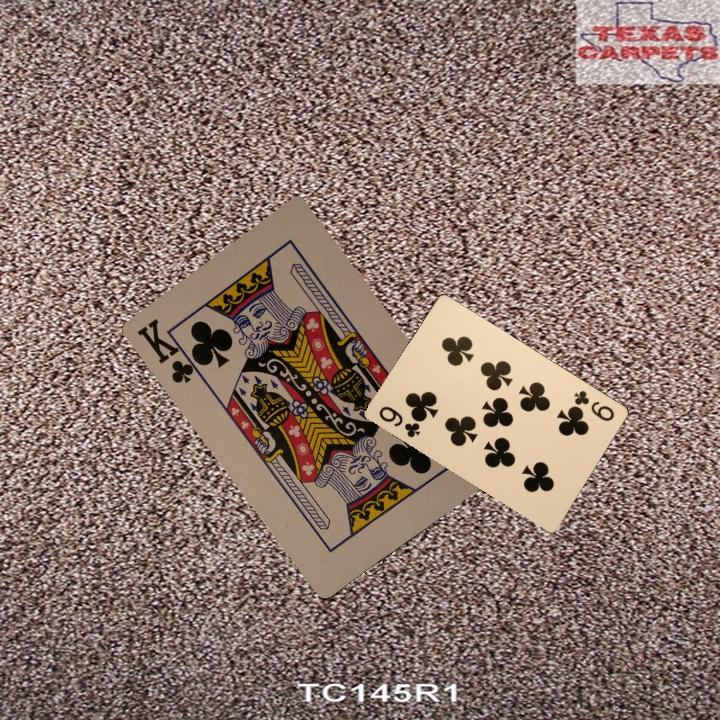9c: (570, 386, 617, 424), (375, 402, 422, 440)
Kc: (133, 314, 206, 386)
